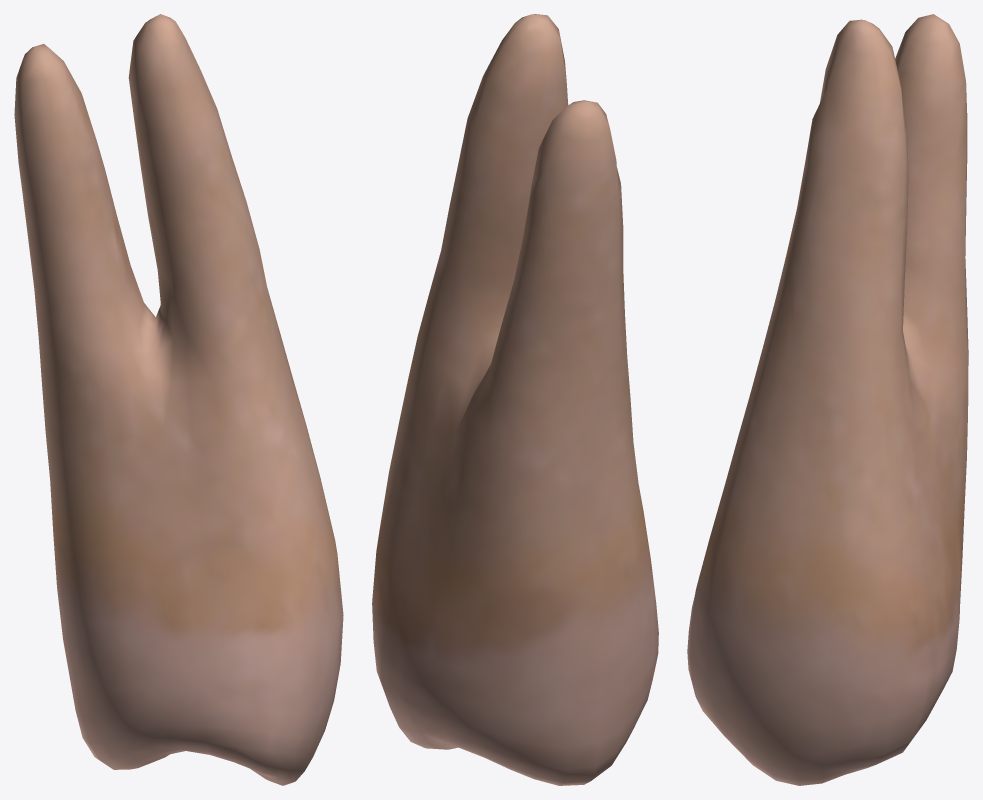
3 renders of one model, left to right at view 1: azimuth 30°, elevation 25°; view 2: azimuth 150°, elevation 25°; view 3: azimuth 270°, elevation 25°, orthographic. The views are drawn at different scales.
Visible parts, largest first — view 1: t_24; view 2: t_24; view 3: t_24.
Boxes of the visible parts, x1,y1,x2,y2 form: t_24: (14,14,343,785); t_24: (372,14,658,785); t_24: (687,14,968,785).
Bounding box in the file's own units: 0.0746 × 0.209 × 0.0735.
1 material, 1 textured.
